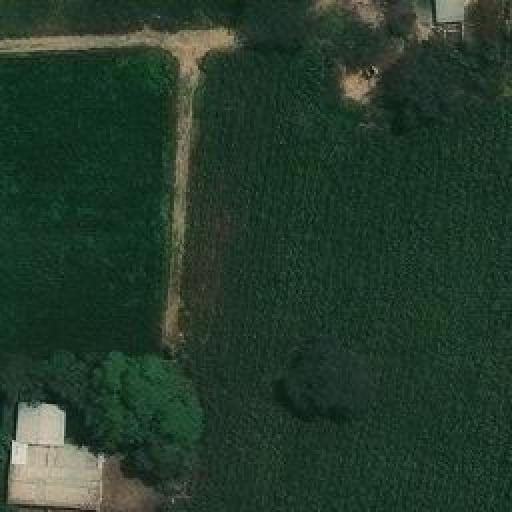manzanas: (7, 397, 111, 510), (427, 0, 468, 39)
